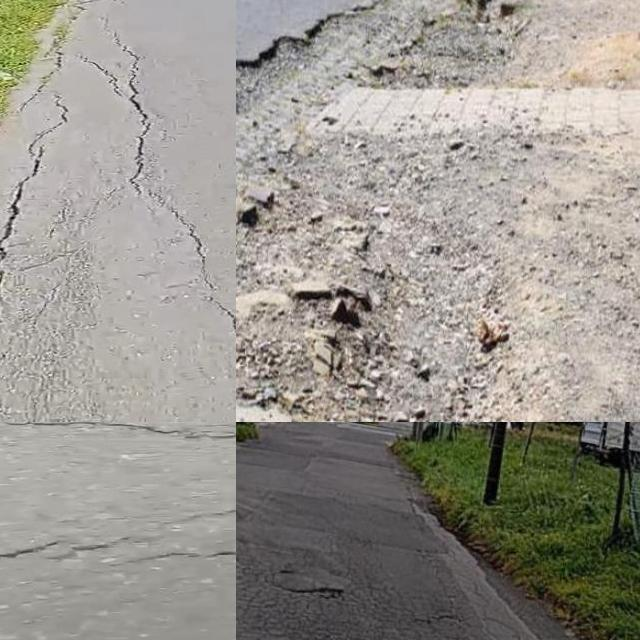Melintang: (0, 502, 236, 580)
Memanjang: (115, 42, 236, 347), (0, 91, 80, 356)
Pinggir: (236, 0, 503, 335)
Retak Buaya: (236, 541, 477, 640)
